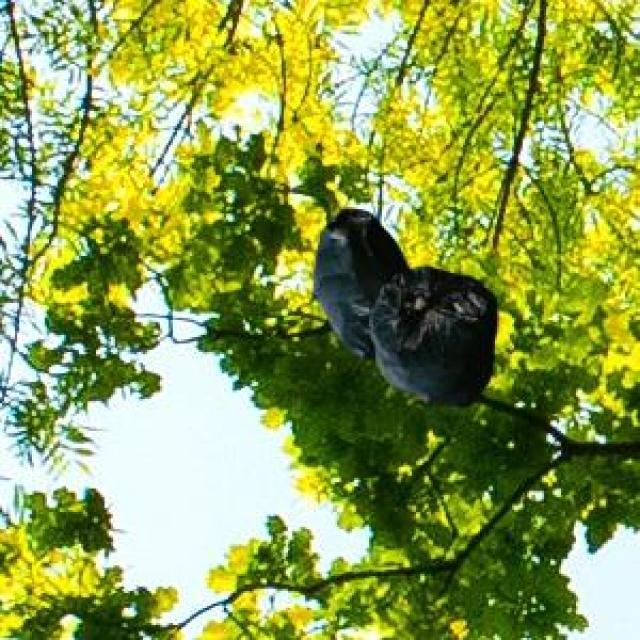Garbage_Bag: (308, 206, 494, 404)
